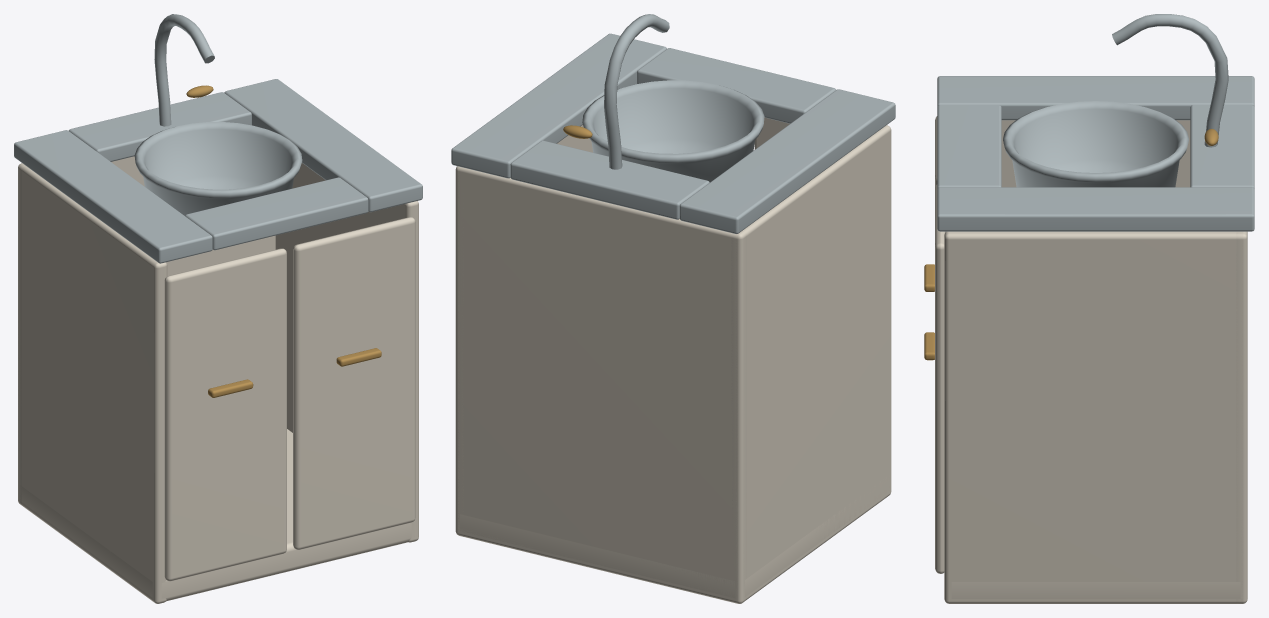
The model's file is ce_sink.glb.
The picture shows the model from 3 angles, left to right: view 1: azimuth 30°, elevation 25°; view 2: azimuth 150°, elevation 25°; view 3: azimuth 270°, elevation 25°; orthographic projection. The views are drawn at different scales.
Parts seen in each view (by area): view 1: prop; view 2: prop; view 3: prop.
Part boxes in pixels (<box>): prop: <box>14,14,422,603</box>; prop: <box>451,14,895,603</box>; prop: <box>924,14,1254,603</box>.
Bounding box in the file's own units: 0.7 × 1.21 × 0.6975.
